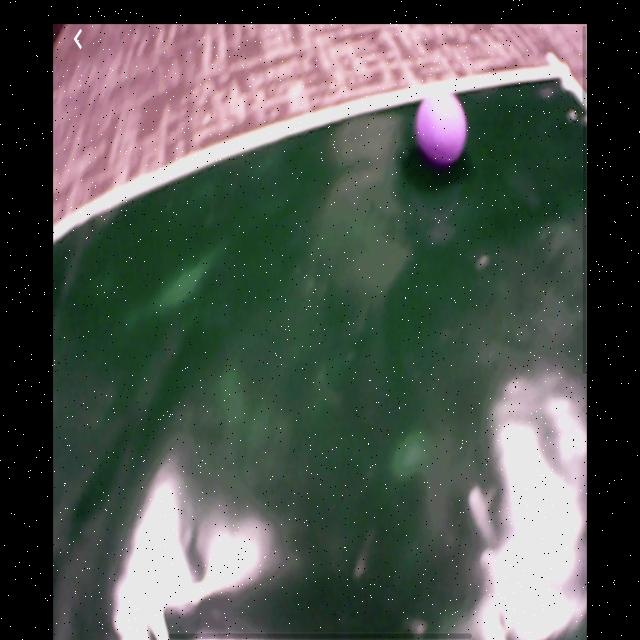ball: (414, 91, 469, 169)
